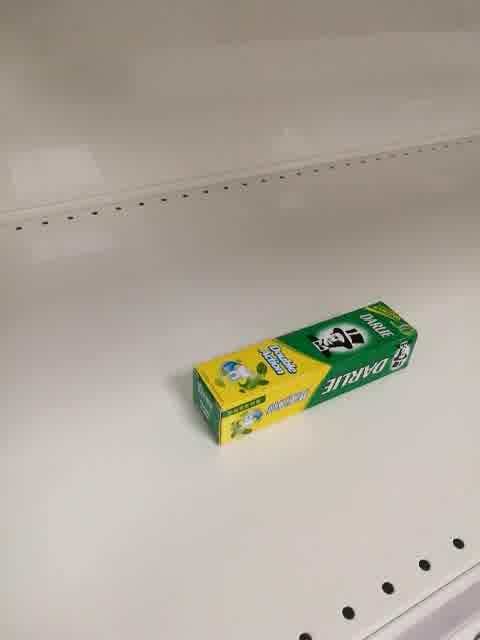toothpaste: (191, 300, 420, 447)
